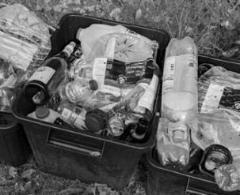glass: (24, 40, 78, 108), (130, 115, 148, 147)
